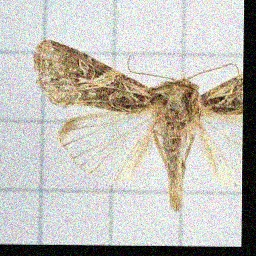Spodoptera litura: (31, 39, 243, 213)
